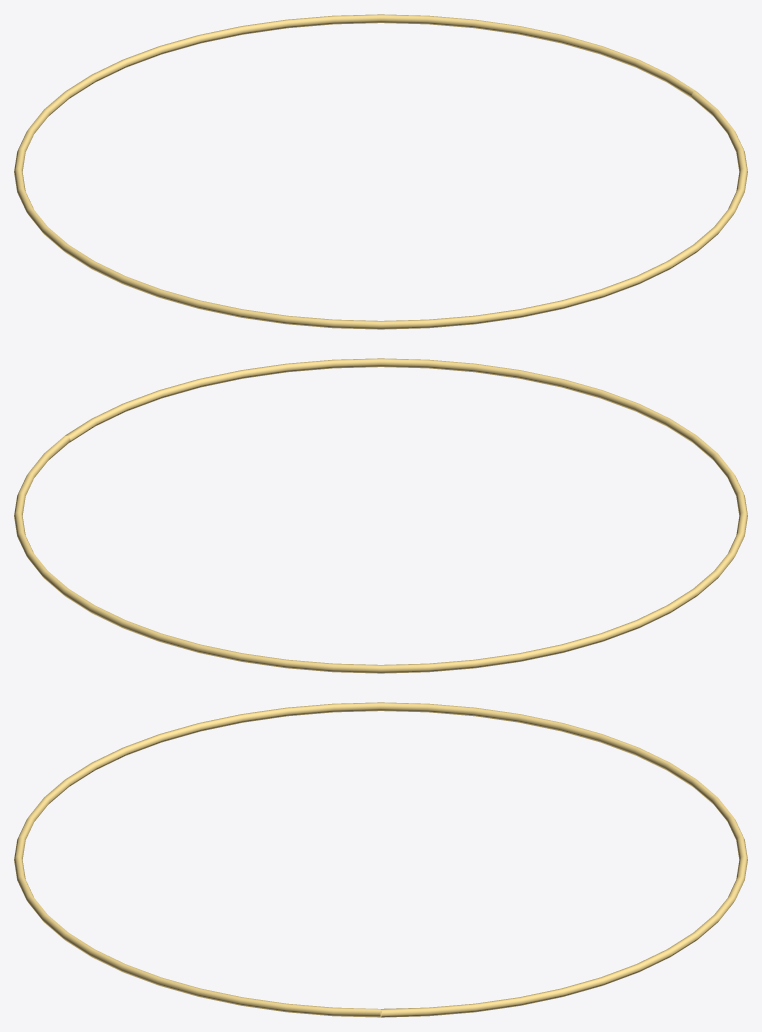
File: DaisRing.obj
3 renders of one model, top to bottom at view 1: azimuth 30°, elevation 25°; view 2: azimuth 150°, elevation 25°; view 3: azimuth 270°, elevation 25°, orthographic.
Parts seen in each view (by area): view 1: DaisRing; view 2: DaisRing; view 3: DaisRing.
Part boxes in pixels (x1,y1,x2,y2): DaisRing: (14, 14, 747, 329); DaisRing: (14, 358, 747, 673); DaisRing: (14, 702, 747, 1017).
Bounding box in the file's own units: 2.02 × 0.0208 × 2.02.
1 material, 1 textured.
